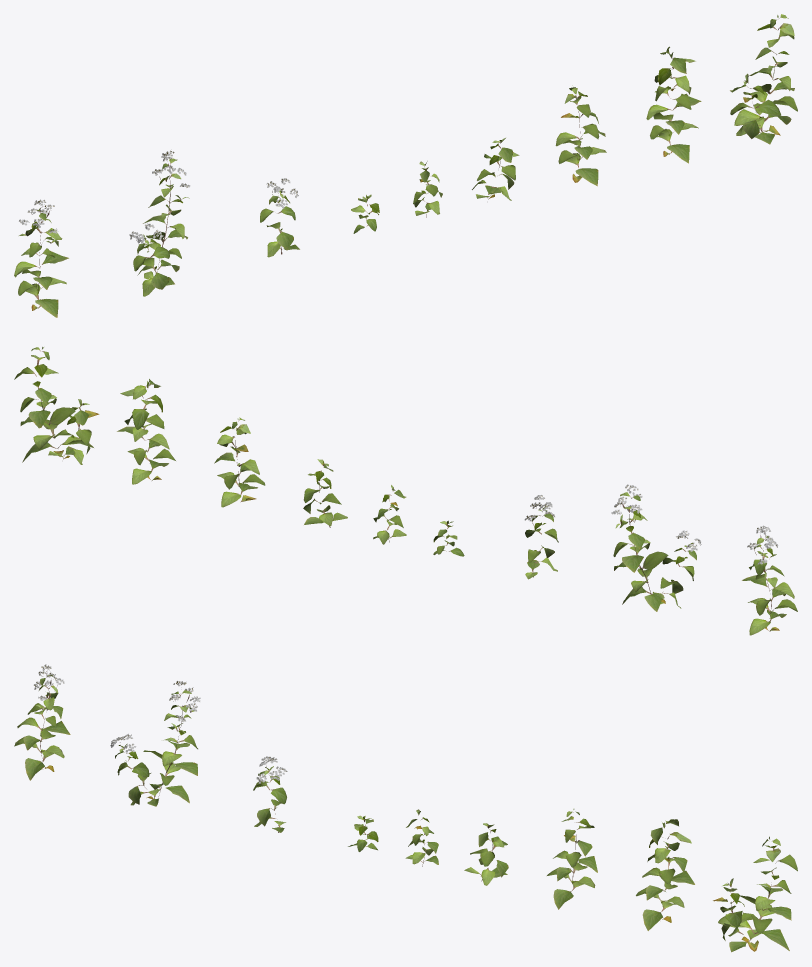
File: shrub_01_opt.glb
The picture shows the model from 3 angles, top to bottom: view 1: azimuth 30°, elevation 25°; view 2: azimuth 150°, elevation 25°; view 3: azimuth 330°, elevation 25°; orthographic projection. The views are drawn at different scales.
Parts seen in each view (by area): view 1: shrub_01_a_LOD0, shrub_01_h_LOD0, shrub_01_b_LOD0, shrub_01_i_LOD0, shrub_01_c_LOD0, shrub_01_g_LOD0, shrub_01_d_LOD0, shrub_01_e_LOD0; view 2: shrub_01_h_LOD0, shrub_01_a_LOD0, shrub_01_b_LOD0, shrub_01_i_LOD0, shrub_01_c_LOD0, shrub_01_d_LOD0, shrub_01_g_LOD0, shrub_01_e_LOD0; view 3: shrub_01_a_LOD0, shrub_01_h_LOD0, shrub_01_b_LOD0, shrub_01_i_LOD0, shrub_01_c_LOD0, shrub_01_g_LOD0, shrub_01_d_LOD0, shrub_01_e_LOD0.
Part boxes in pixels (<box>): shrub_01_a_LOD0: <box>730,14,797,144</box>; shrub_01_h_LOD0: <box>129,150,189,296</box>; shrub_01_b_LOD0: <box>646,46,701,163</box>; shrub_01_i_LOD0: <box>14,199,68,317</box>; shrub_01_c_LOD0: <box>555,85,606,186</box>; shrub_01_g_LOD0: <box>260,178,299,257</box>; shrub_01_d_LOD0: <box>472,138,519,200</box>; shrub_01_e_LOD0: <box>413,161,442,217</box>; shrub_01_h_LOD0: <box>611,484,701,611</box>; shrub_01_a_LOD0: <box>14,347,99,464</box>; shrub_01_b_LOD0: <box>117,379,175,484</box>; shrub_01_i_LOD0: <box>742,525,797,635</box>; shrub_01_c_LOD0: <box>214,417,265,507</box>; shrub_01_d_LOD0: <box>303,459,347,527</box>; shrub_01_g_LOD0: <box>524,495,558,579</box>; shrub_01_e_LOD0: <box>373,485,406,544</box>; shrub_01_a_LOD0: <box>713,836,797,952</box>; shrub_01_h_LOD0: <box>110,681,200,806</box>; shrub_01_b_LOD0: <box>636,819,694,930</box>; shrub_01_i_LOD0: <box>14,664,70,780</box>; shrub_01_c_LOD0: <box>547,808,597,909</box>; shrub_01_g_LOD0: <box>253,756,287,832</box>; shrub_01_d_LOD0: <box>464,823,508,885</box>; shrub_01_e_LOD0: <box>405,809,438,866</box>.
Size of what is drawn, in the model's own units: 2.59 by 0.3958 by 0.2195.
1 material, 1 textured.
